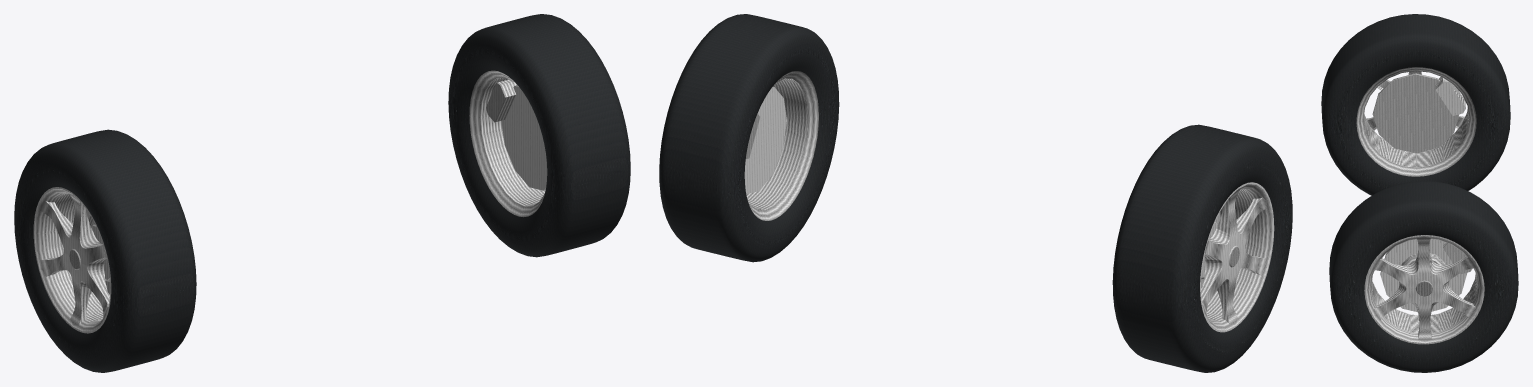
Rendered from Llantastraseras.obj.
3 views of the same model, side by side, from view 1: azimuth 30°, elevation 25°; view 2: azimuth 150°, elevation 25°; view 3: azimuth 270°, elevation 25° (orthographic). The views are drawn at different scales.
Bounding box in the file's own units: 201 × 81.64 × 83.21.
Materials: 2 (2 with a texture image).
